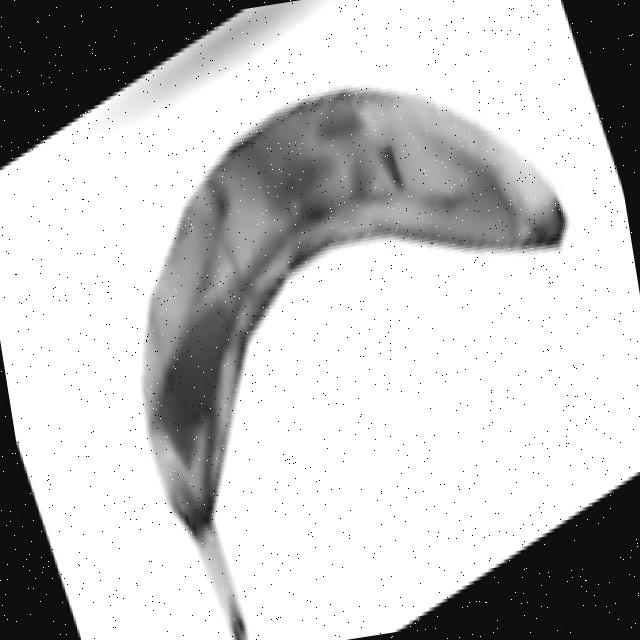overripe: (94, 56, 627, 640)
